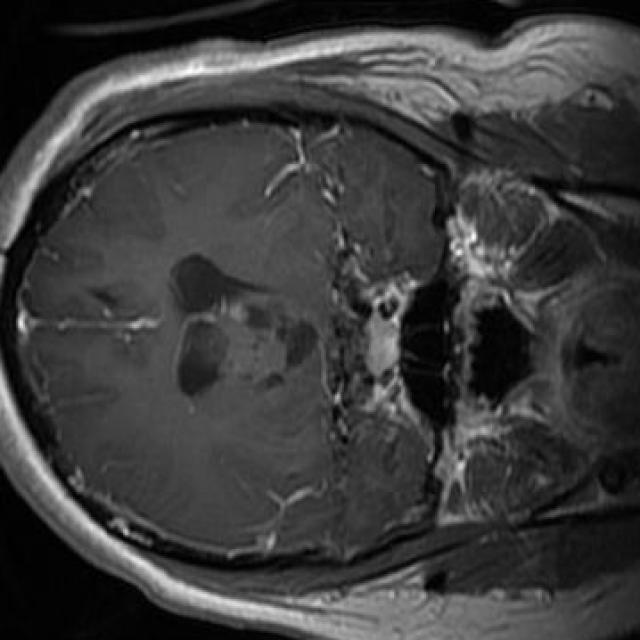glioma: (166, 255, 319, 399)
